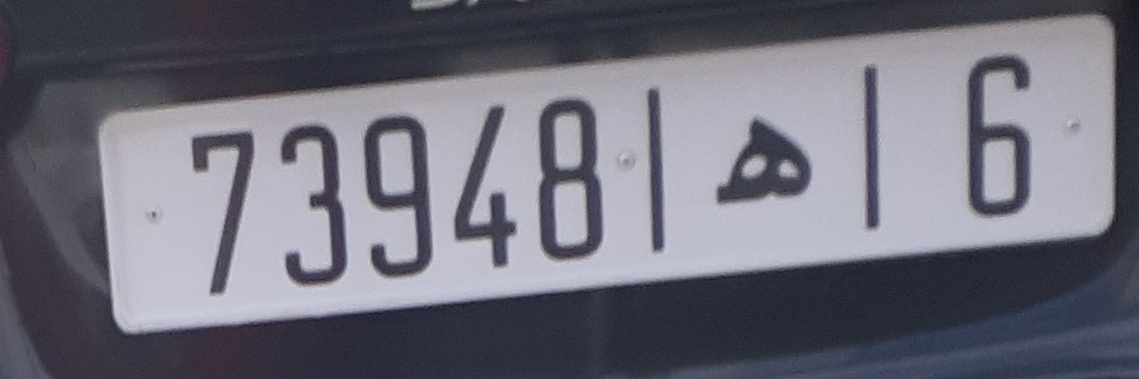3: (276, 116, 348, 299)
4: (445, 94, 524, 272)
6: (956, 37, 1050, 226)
7: (181, 119, 262, 302)
8: (528, 82, 608, 267)
9: (360, 102, 438, 284)
h: (685, 107, 833, 221)
